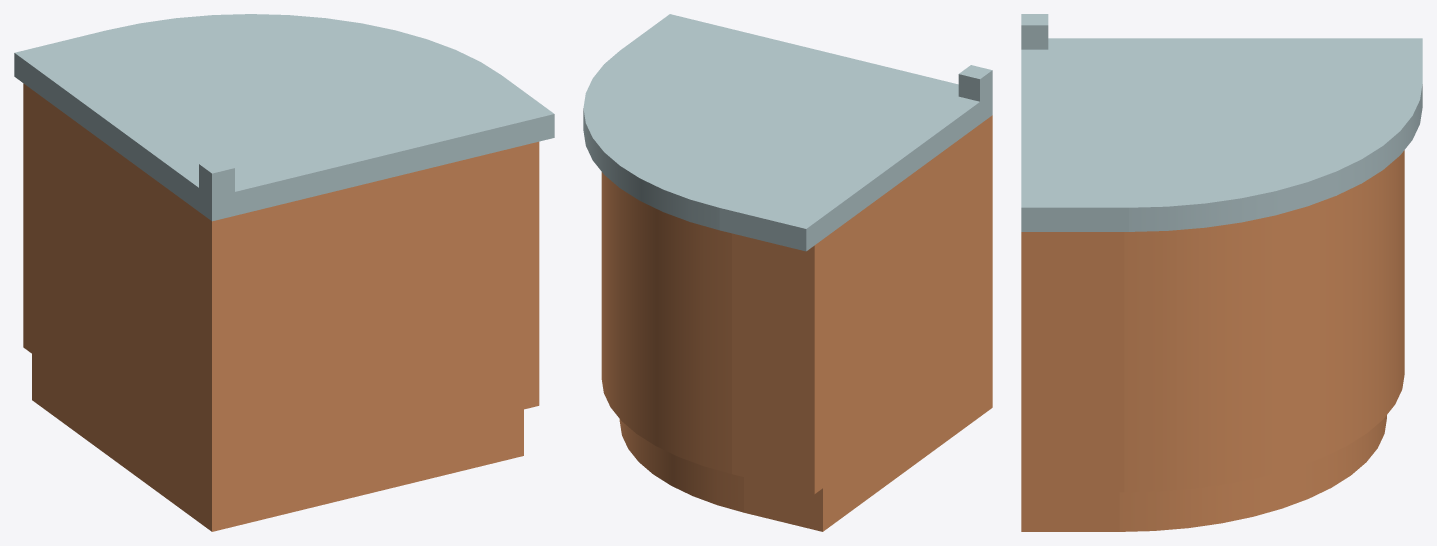
Rendered from kitchenCabinetCornerRound.obj.
3 renders of one model, left to right at view 1: azimuth 30°, elevation 25°; view 2: azimuth 150°, elevation 25°; view 3: azimuth 270°, elevation 25°, orthographic. The views are drawn at different scales.
Parts seen in each view (by area): view 1: kitchenCabinetCornerRound; view 2: kitchenCabinetCornerRound; view 3: kitchenCabinetCornerRound.
Part boxes in pixels (bbox=[...]): kitchenCabinetCornerRound: bbox=[14, 14, 554, 531]; kitchenCabinetCornerRound: bbox=[583, 14, 992, 531]; kitchenCabinetCornerRound: bbox=[1021, 14, 1422, 531].
Bounding box in the file's own units: 0.45 × 0.45 × 0.45.
